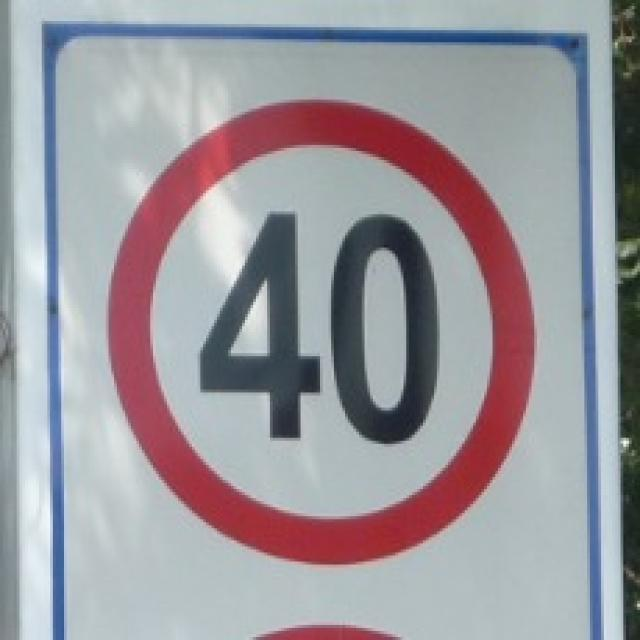Speed Limit -40-: (196, 205, 441, 446)
